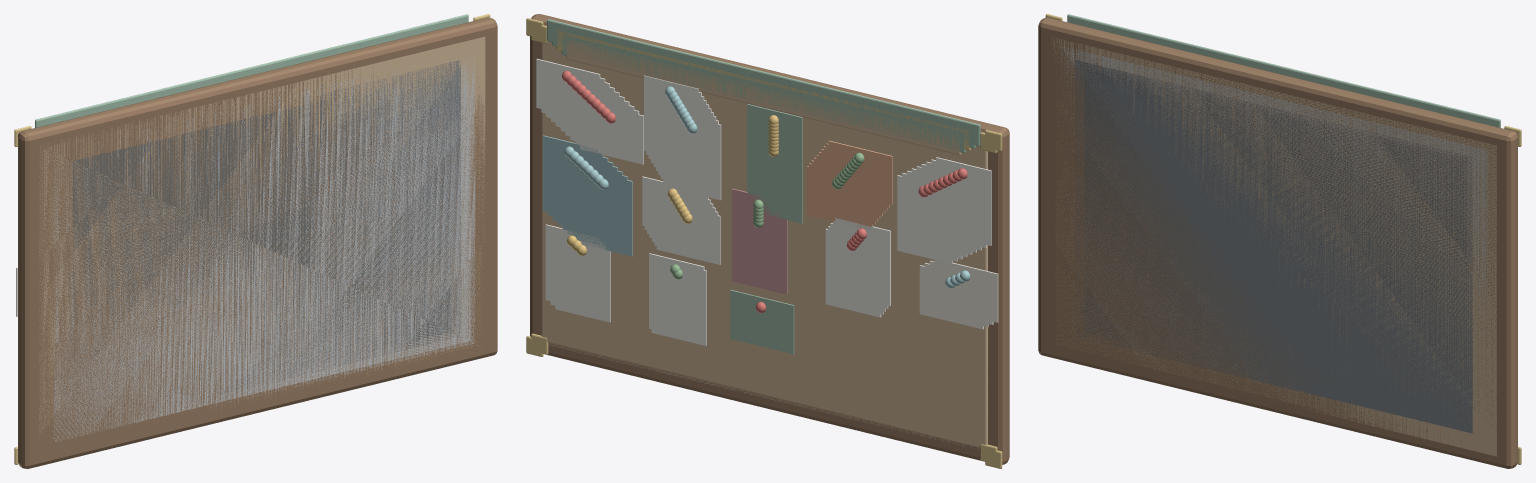
File: Gear09.fbx
3 renders of one model, left to right at view 1: azimuth 30°, elevation 25°; view 2: azimuth 150°, elevation 25°; view 3: azimuth 330°, elevation 25°, orthographic.
Parts seen in each view (by area): view 1: Gear09_V10_Walnut, Gear09_V5_BrushedSteel, Gear09_V1_Charcoal, Gear09_V9_Walnut, Gear09_V3_Graphite, Gear09_V8_Oak, Gear09_V7_Oak, Gear09_V6_BrushedSteel, Gear09_V10_Sage, Gear09_V9_Sage; view 2: Gear09_V10_Cork, Gear09_V2_Cork, Gear09_V10_Paper, Gear09_V10_Walnut, Gear09_V6_Cork, Gear09_V4_Cork, Gear09_V10_Sage, Gear09_V1_Cork, Gear09_V8_Paper, Gear09_V6_Oak, Gear09_V7_Sage, Gear09_V6_Paper (+38 smaller); view 3: Gear09_V3_Graphite, Gear09_V10_Walnut, Gear09_V8_Oak, Gear09_V9_Walnut, Gear09_V6_BrushedSteel, Gear09_V2_Charcoal, Gear09_V1_Charcoal, Gear09_V7_Oak, Gear09_V10_Sage, Gear09_V5_BrushedSteel.
Boxes of the visible parts, box(x1,y1,x2,y2) form: Gear09_V10_Walnut: box(18, 17, 497, 468); Gear09_V5_BrushedSteel: box(53, 55, 470, 441); Gear09_V1_Charcoal: box(73, 93, 451, 375); Gear09_V9_Walnut: box(34, 32, 489, 460); Gear09_V3_Graphite: box(63, 60, 460, 431); Gear09_V8_Oak: box(39, 36, 485, 433); Gear09_V7_Oak: box(44, 76, 480, 428); Gear09_V6_BrushedSteel: box(50, 51, 475, 413); Gear09_V10_Sage: box(35, 14, 468, 127); Gear09_V9_Sage: box(42, 21, 463, 125); Gear09_V10_Cork: box(541, 41, 987, 447); Gear09_V2_Cork: box(707, 130, 946, 411); Gear09_V10_Paper: box(536, 58, 991, 341); Gear09_V10_Walnut: box(530, 14, 1009, 464); Gear09_V6_Cork: box(562, 58, 965, 429); Gear09_V4_Cork: box(572, 102, 955, 420); Gear09_V10_Sage: box(547, 19, 980, 354); Gear09_V1_Cork: box(586, 94, 940, 373); Gear09_V8_Paper: box(546, 68, 981, 322); Gear09_V6_Oak: box(566, 39, 961, 155); Gear09_V7_Sage: box(561, 35, 965, 202); Gear09_V6_Paper: box(555, 78, 972, 317); Gear09_V3_Graphite: box(1075, 59, 1472, 433); Gear09_V10_Walnut: box(1038, 17, 1517, 468); Gear09_V8_Oak: box(1051, 37, 1496, 456); Gear09_V9_Walnut: box(1046, 34, 1501, 460); Gear09_V6_BrushedSteel: box(1060, 46, 1487, 394); Gear09_V2_Charcoal: box(1080, 65, 1467, 419); Gear09_V1_Charcoal: box(1084, 69, 1462, 368); Gear09_V7_Oak: box(1055, 42, 1491, 445); Gear09_V10_Sage: box(1067, 14, 1500, 127); Gear09_V5_BrushedSteel: box(1065, 51, 1482, 437).
Size of the model in its own units: 113 by 76.95 by 6.
